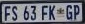character: (4, 5, 11, 21), (11, 5, 18, 21), (41, 4, 48, 20), (65, 4, 72, 20), (48, 5, 55, 20), (73, 4, 79, 20), (23, 5, 29, 20), (30, 5, 36, 20)
